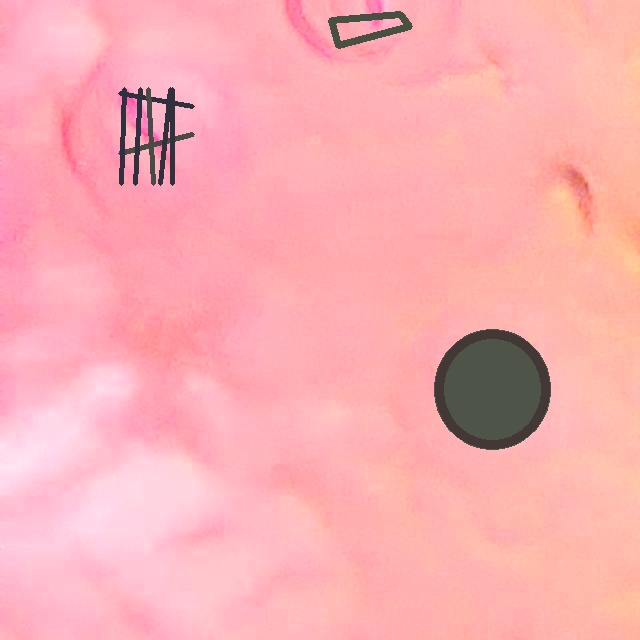open: (435, 329, 550, 449), (118, 87, 194, 185), (328, 11, 412, 48)
